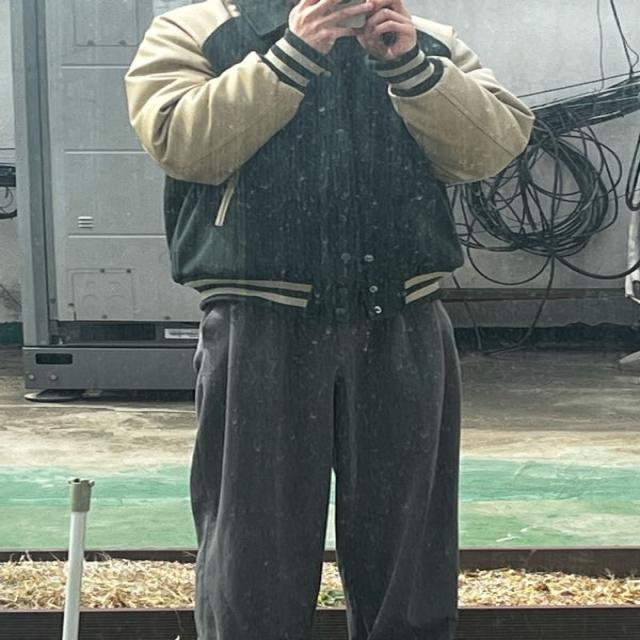jacket: (126, 0, 536, 318)
slacks: (187, 284, 458, 635)
